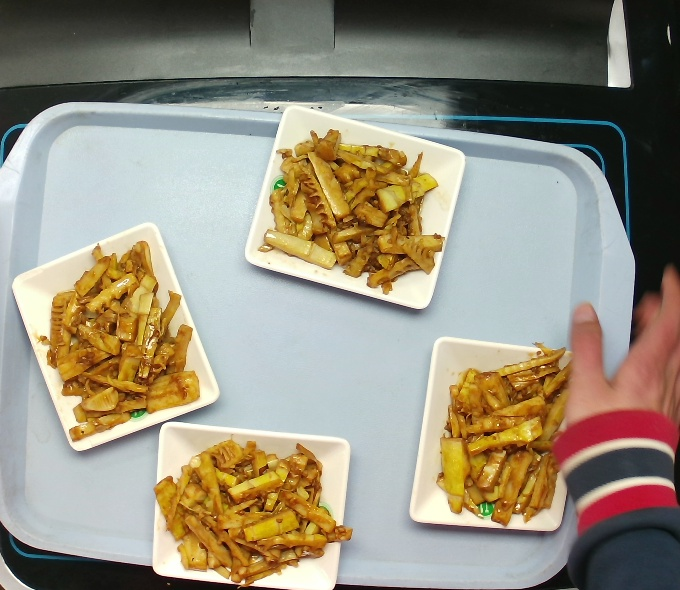wcq-QingChaoChunSun: (37, 235, 206, 437), (259, 124, 454, 299), (144, 436, 364, 582), (433, 335, 601, 526)
